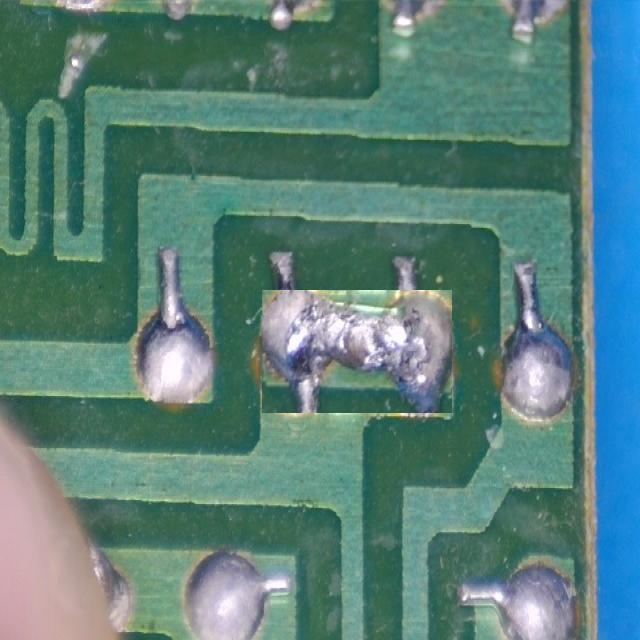Short_circuit: (263, 290, 452, 413)
